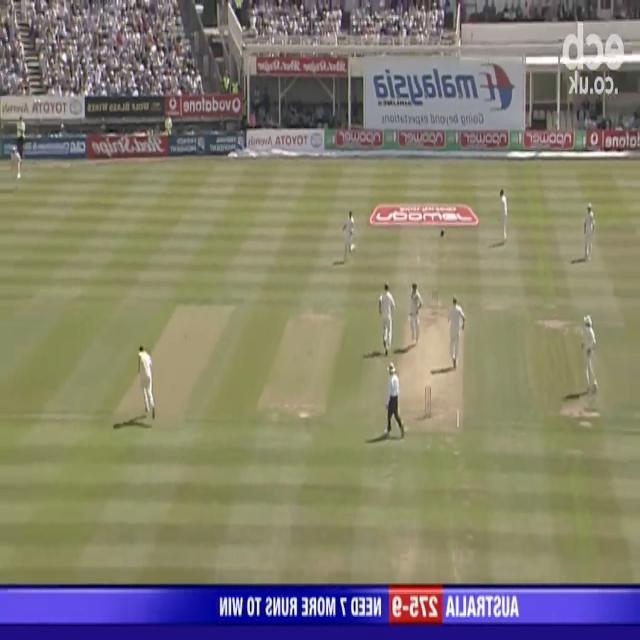ball: (182, 331, 188, 338)
